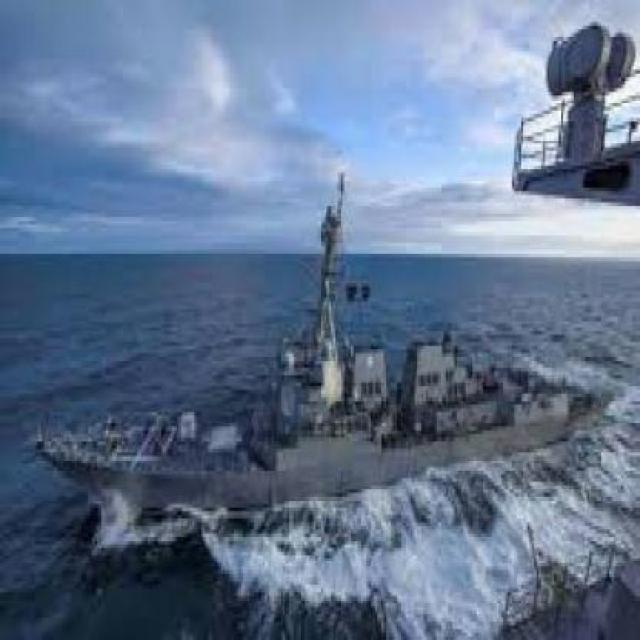warship2: (34, 211, 597, 520)
